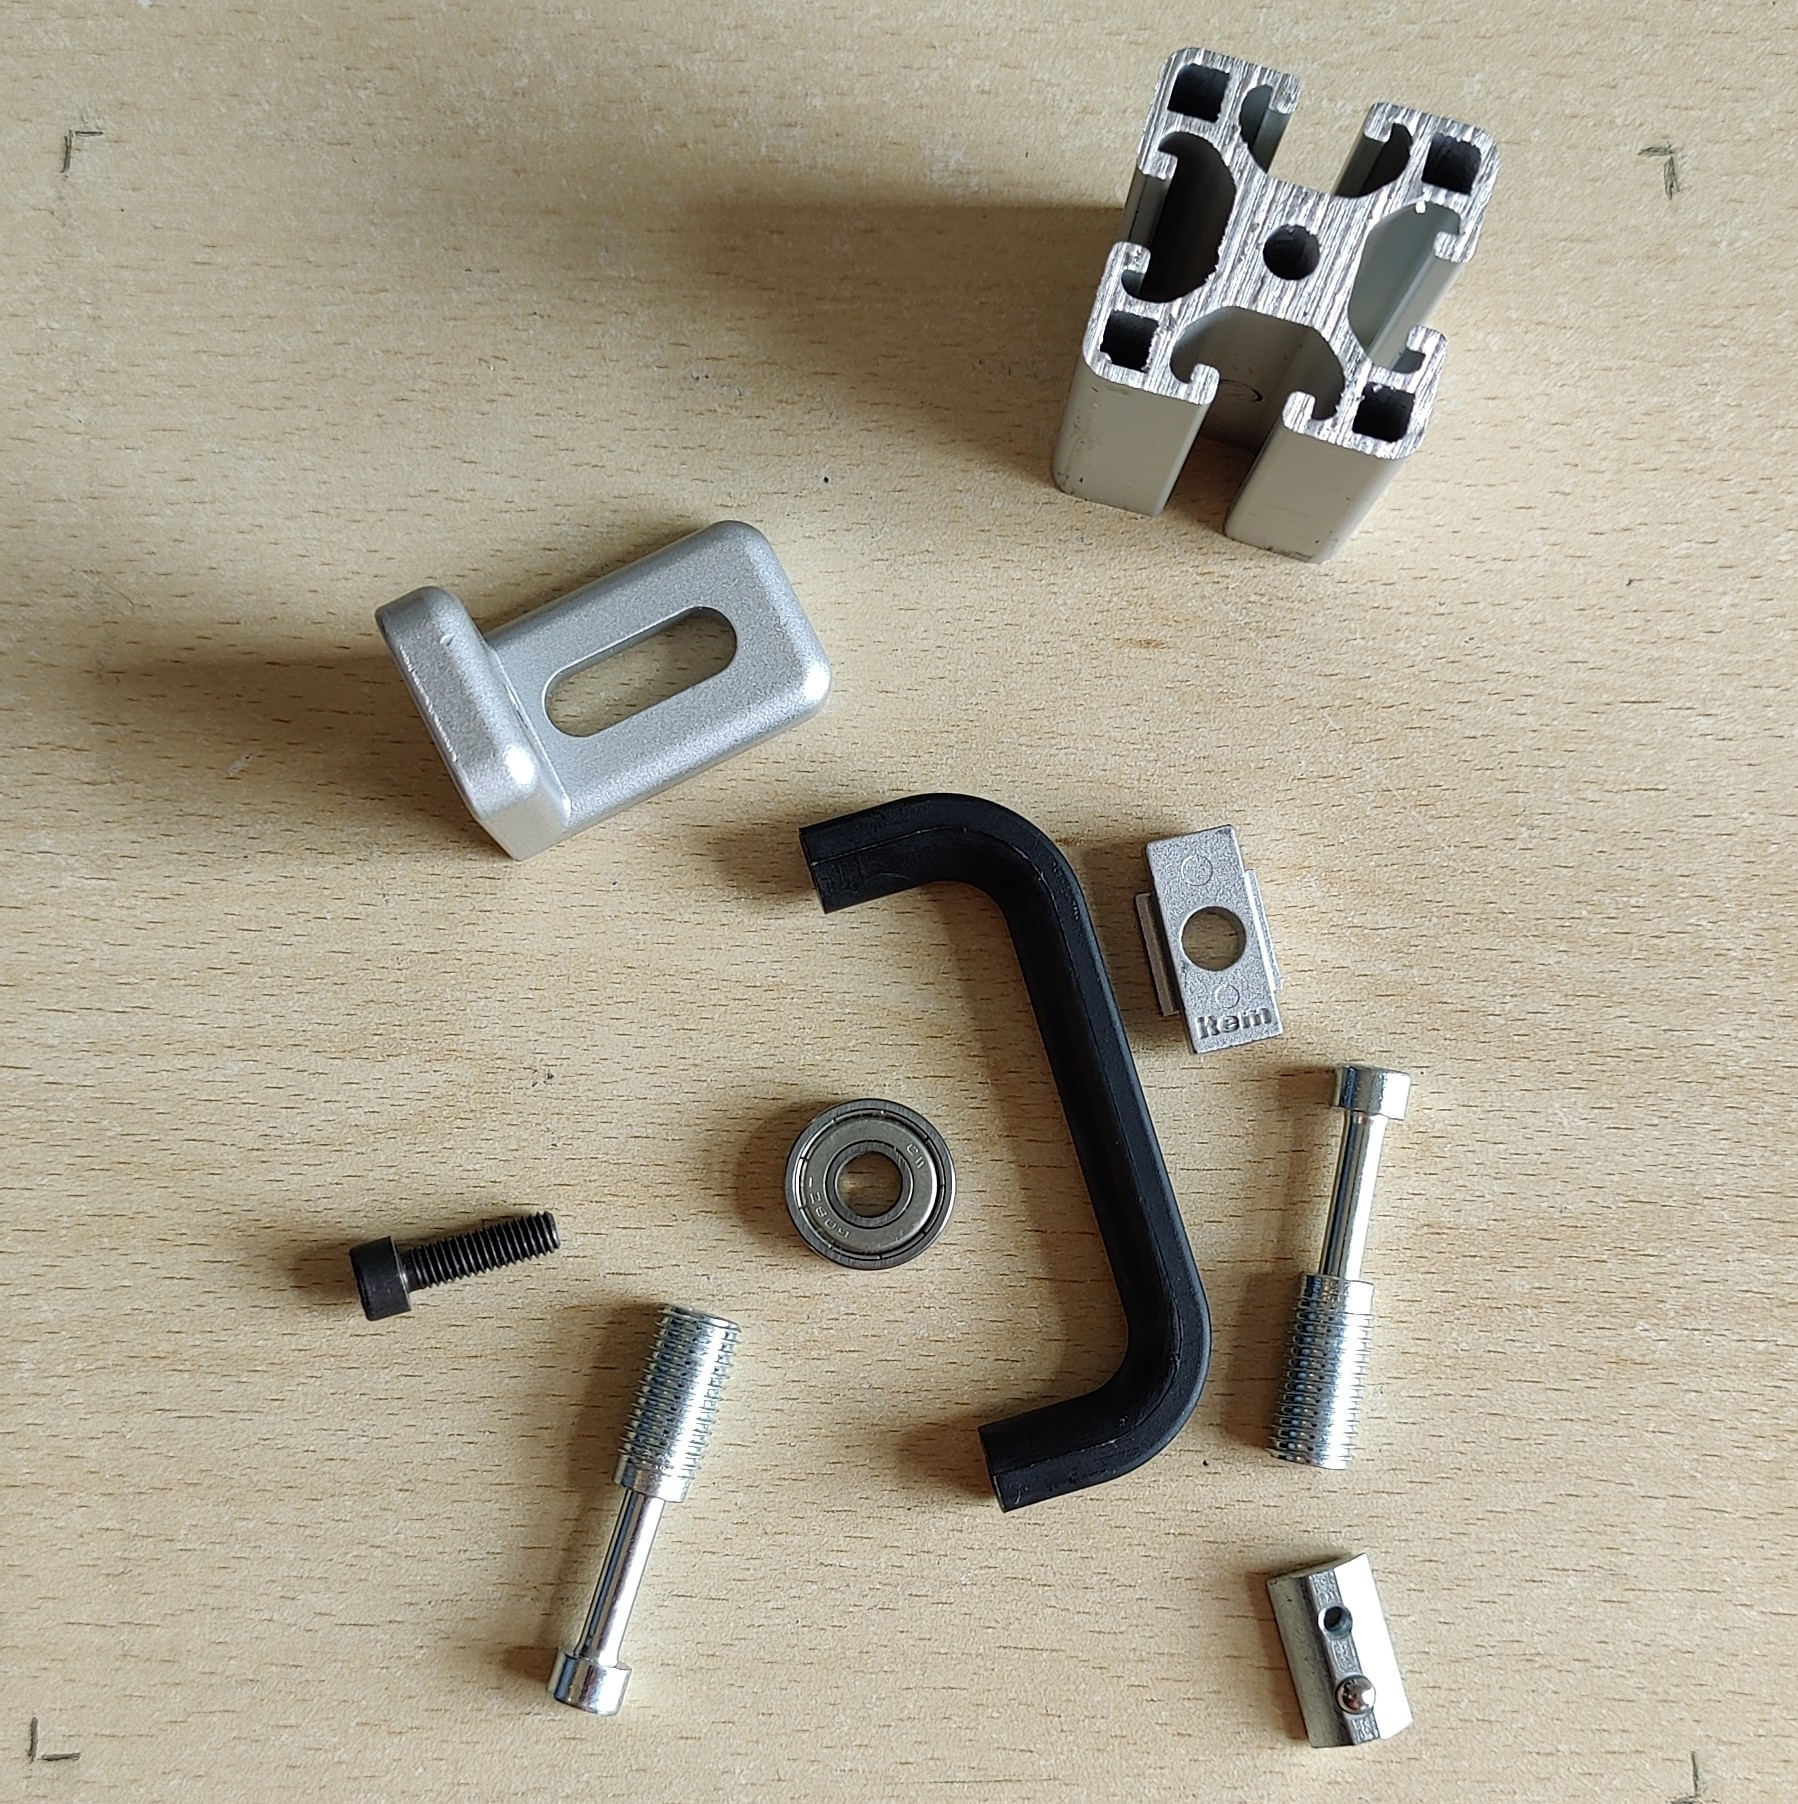Aluminium Extension: (1047, 43, 1502, 568)
Ball Bearing: (779, 1093, 958, 1272)
Multiwinkel: (370, 520, 833, 867)
Pull Handle: (797, 788, 1213, 1514)
Shoulder Socket Head Cap Screw: (547, 1300, 743, 1718), (1261, 1062, 1413, 1473)
Socket Head Cap Screw: (346, 1207, 565, 1323)
T Nut Square: (1130, 820, 1286, 1060)
T Spring Nut: (1261, 1551, 1419, 1751)
